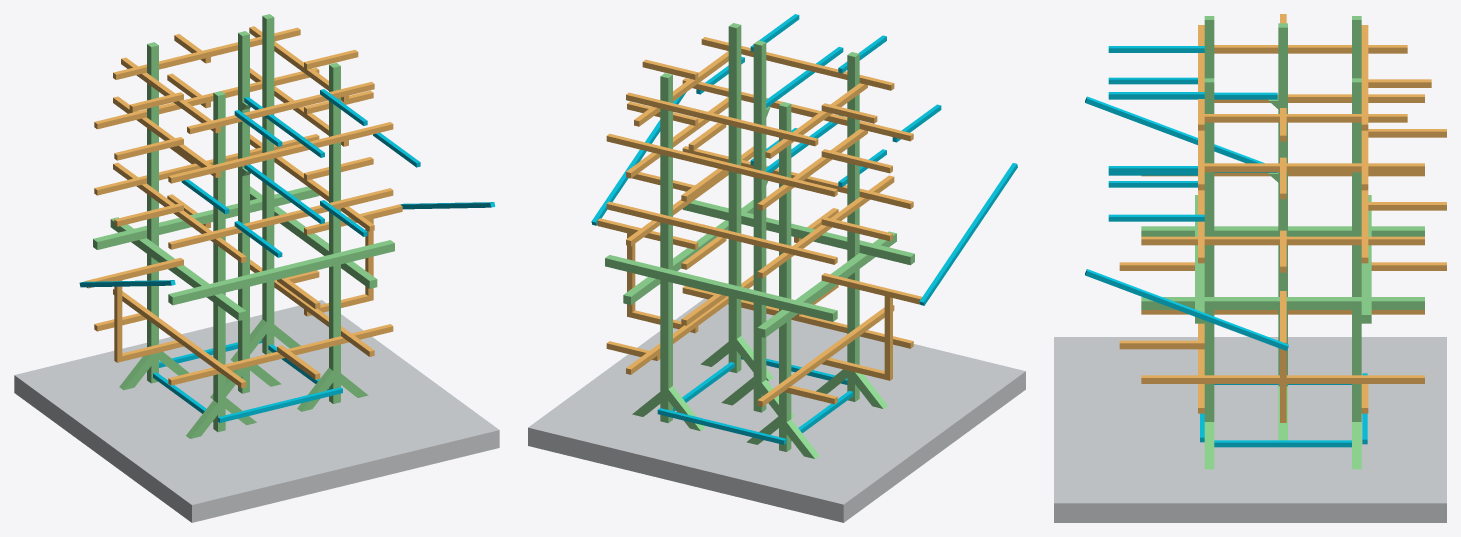
Rendered from version1.glb.
The picture shows the model from 3 angles, left to right: view 1: azimuth 30°, elevation 25°; view 2: azimuth 150°, elevation 25°; view 3: azimuth 270°, elevation 25°; orthographic projection. The views are drawn at different scales.
Parts seen in each view (by area): view 1: obj_0, obj_3, obj_1, obj_2, obj_5, obj_69, obj_4, obj_66, obj_24, obj_58, obj_27, obj_68 (+24 smaller); view 2: obj_0, obj_1, obj_2, obj_3, obj_4, obj_5, obj_66, obj_69, obj_63, obj_21, obj_47, obj_68 (+23 smaller); view 3: obj_0, obj_2, obj_70, obj_3, obj_62, obj_68, obj_28, obj_1, obj_23, obj_45, obj_51, obj_49 (+31 smaller).
Part boxes in pixels (box(x1,y1,x2,y2)): obj_0: box(14, 300, 499, 522); obj_3: box(262, 14, 274, 354); obj_1: box(238, 31, 249, 393); obj_2: box(329, 63, 340, 403); obj_5: box(213, 91, 225, 432); obj_69: box(168, 240, 394, 305); obj_4: box(147, 42, 158, 383); obj_66: box(93, 186, 319, 249); obj_24: box(168, 122, 393, 183); obj_58: box(168, 188, 393, 249); obj_27: box(168, 324, 393, 385); obj_68: box(110, 217, 246, 320); obj_0: box(528, 298, 1025, 522); obj_1: box(753, 40, 766, 412); obj_2: box(728, 23, 741, 373); obj_3: box(660, 73, 672, 423); obj_4: box(779, 102, 791, 451); obj_5: box(847, 52, 859, 401); obj_66: box(605, 255, 837, 321); obj_69: box(682, 200, 914, 265); obj_63: box(606, 201, 837, 264); obj_21: box(606, 133, 837, 196); obj_47: box(626, 92, 818, 146); obj_68: box(757, 231, 896, 337); obj_0: box(1054, 337, 1446, 522); obj_2: box(1204, 78, 1214, 421); obj_70: box(1141, 297, 1424, 309); obj_3: box(1352, 78, 1361, 421); obj_62: box(1141, 236, 1424, 245); obj_68: box(1141, 226, 1424, 236); obj_28: box(1141, 375, 1424, 383); obj_1: box(1278, 23, 1287, 386); obj_23: box(1204, 163, 1424, 172); obj_45: box(1204, 114, 1407, 122); obj_51: box(1085, 269, 1288, 350); obj_49: box(1214, 45, 1407, 53).
Bounding box in the file's own units: 189 × 210 × 180.
